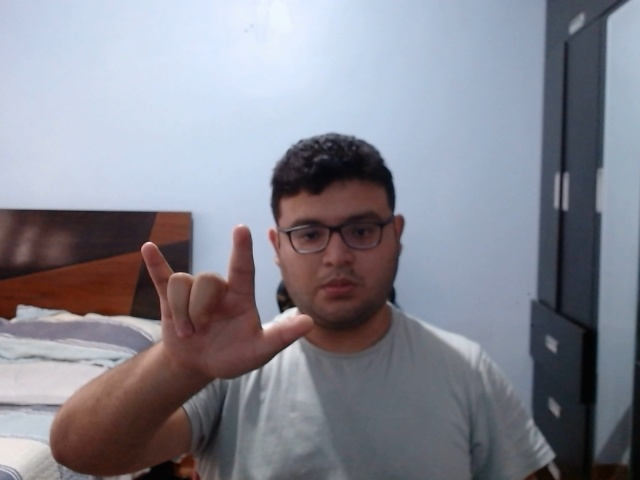I love you: (131, 219, 318, 389)
